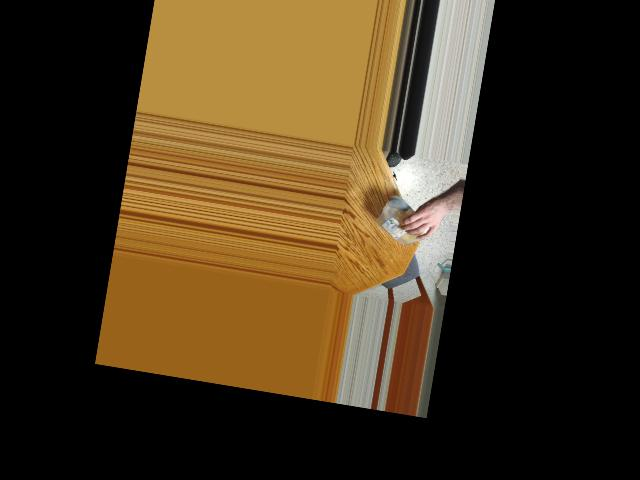cheese: (374, 196, 436, 250)
